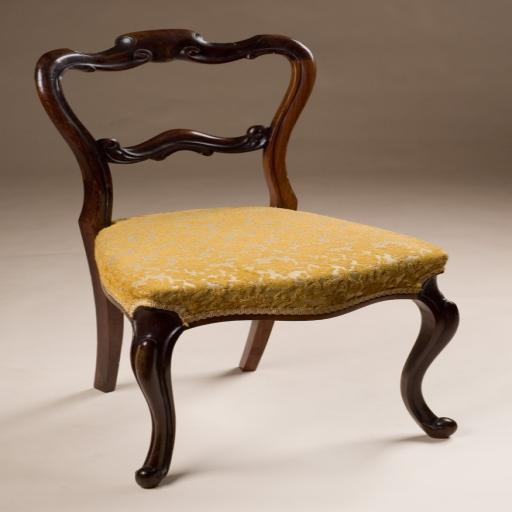chair: (33, 28, 462, 490)
